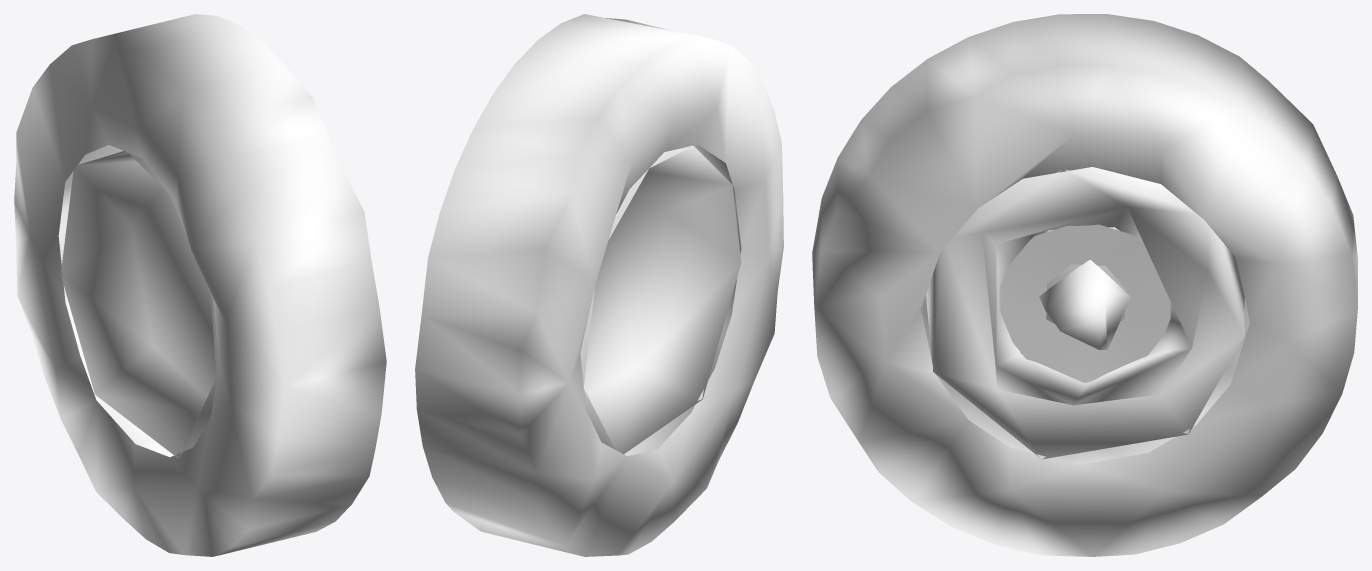
The picture shows the model from 3 angles, left to right: view 1: azimuth 30°, elevation 25°; view 2: azimuth 150°, elevation 25°; view 3: azimuth 270°, elevation 25°; orthographic projection. The views are drawn at different scales.
Size of the model in its own units: 0.2604 by 0.7346 by 0.7367.
1 material, 1 textured.
